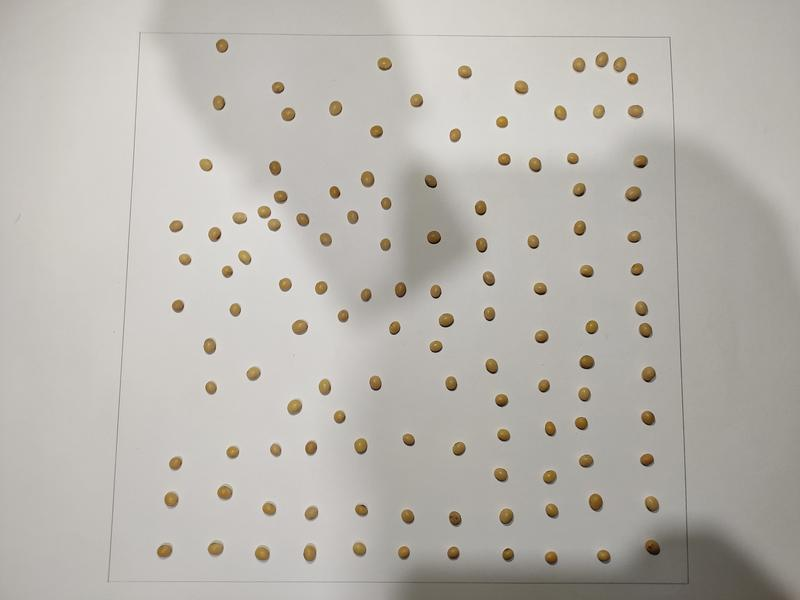Soybean: (284, 395, 307, 417), (204, 542, 230, 559), (623, 182, 644, 203), (443, 374, 464, 394), (477, 271, 501, 288), (525, 154, 545, 174), (252, 545, 274, 563), (373, 55, 396, 72), (628, 152, 651, 169), (256, 500, 282, 515), (357, 170, 377, 189), (535, 377, 554, 397), (162, 490, 182, 509), (301, 544, 320, 564), (234, 249, 255, 267), (352, 435, 370, 456), (375, 237, 397, 254), (267, 442, 286, 461), (510, 77, 530, 95), (303, 438, 321, 458), (165, 455, 189, 470), (406, 92, 427, 109), (204, 226, 225, 243), (245, 363, 262, 384), (215, 484, 236, 501), (594, 49, 610, 71), (385, 321, 408, 336), (279, 106, 298, 124), (491, 390, 510, 408), (644, 539, 662, 558), (202, 338, 221, 356), (525, 232, 542, 252), (570, 217, 587, 237), (435, 310, 455, 327), (543, 547, 561, 565), (641, 366, 658, 385), (317, 231, 336, 248), (484, 357, 501, 376), (542, 420, 559, 439), (492, 467, 511, 484), (329, 408, 348, 425), (350, 540, 369, 557), (625, 103, 645, 119), (271, 189, 291, 205), (636, 322, 656, 338), (290, 319, 310, 335), (531, 282, 551, 298), (588, 493, 604, 513), (499, 507, 515, 527), (319, 375, 333, 397), (221, 445, 243, 459), (156, 544, 178, 558), (267, 160, 285, 177), (570, 181, 588, 198), (627, 259, 644, 277), (578, 263, 596, 280), (392, 281, 409, 299), (633, 298, 649, 317), (496, 427, 512, 446), (573, 417, 592, 433), (499, 547, 518, 563), (399, 508, 418, 524), (303, 503, 319, 522), (351, 503, 371, 518), (613, 53, 627, 74), (624, 230, 645, 244), (457, 63, 474, 80), (571, 56, 588, 73), (426, 229, 443, 246), (211, 94, 227, 112), (328, 100, 344, 118), (169, 299, 187, 315), (645, 495, 661, 513), (367, 376, 385, 392), (638, 453, 658, 467), (576, 454, 597, 467), (591, 103, 607, 120), (584, 319, 601, 335), (579, 355, 596, 371), (641, 410, 657, 427), (429, 283, 445, 300), (542, 470, 559, 486), (447, 126, 462, 144), (166, 219, 184, 234), (266, 218, 284, 233), (227, 303, 245, 318), (336, 307, 351, 325), (533, 329, 551, 344), (544, 503, 562, 518), (398, 434, 418, 447), (577, 387, 593, 403), (448, 511, 464, 527), (396, 544, 412, 560), (197, 157, 214, 172), (566, 151, 581, 168), (277, 276, 292, 293), (483, 306, 498, 323), (255, 205, 273, 219), (452, 441, 466, 459), (494, 114, 510, 129), (327, 185, 343, 200), (345, 210, 361, 225), (360, 285, 372, 305), (204, 382, 220, 397), (368, 124, 385, 138), (424, 173, 438, 190), (474, 199, 488, 216), (219, 264, 236, 278), (215, 39, 230, 54), (496, 152, 512, 166), (474, 238, 488, 254), (315, 281, 329, 297), (427, 341, 445, 353), (553, 106, 568, 120), (233, 211, 248, 225), (626, 72, 640, 86), (598, 549, 612, 563), (295, 213, 310, 226), (177, 254, 193, 266), (271, 81, 285, 94), (379, 196, 392, 210), (447, 546, 460, 560)
